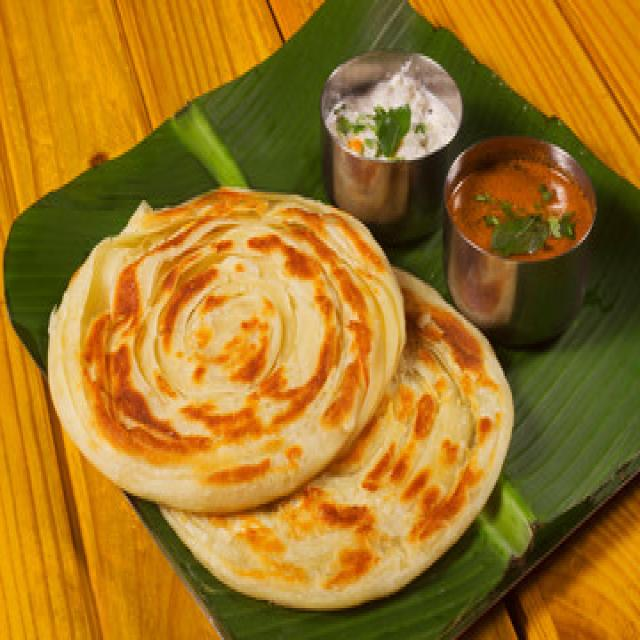CURD: (324, 69, 460, 163)
KURMA: (449, 154, 593, 261)
PAROTTA: (33, 154, 539, 633)
